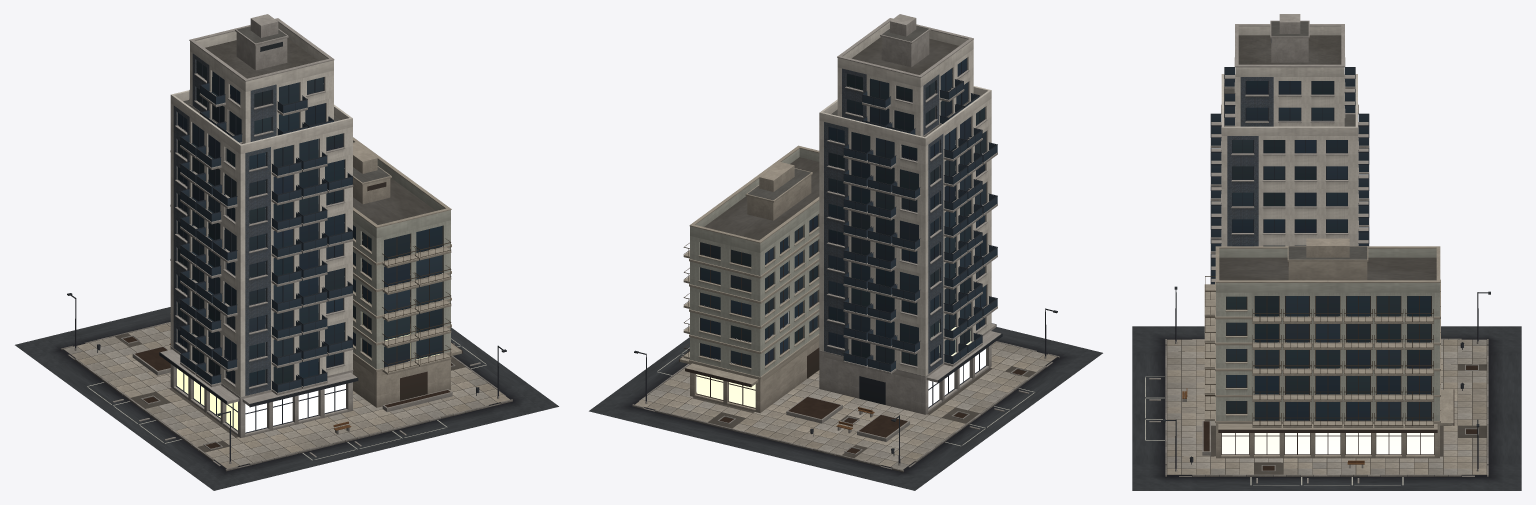
Rendered from modulo_B_lod0.glb.
The picture shows the model from 3 angles, left to right: view 1: azimuth 30°, elevation 25°; view 2: azimuth 150°, elevation 25°; view 3: azimuth 270°, elevation 25°; orthographic projection. The views are drawn at different scales.
Visible parts, largest first — view 1: modulo_B_lod0_tex, modulo_B_lod0_solid; view 2: modulo_B_lod0_tex, modulo_B_lod0_solid; view 3: modulo_B_lod0_tex, modulo_B_lod0_solid.
Part boxes in pixels (<box>): modulo_B_lod0_tex: <box>15,14,558,490</box>; modulo_B_lod0_solid: <box>67,42,506,461</box>; modulo_B_lod0_tex: <box>589,14,1102,490</box>; modulo_B_lod0_solid: <box>634,58,1057,463</box>; modulo_B_lod0_tex: <box>1132,14,1521,490</box>; modulo_B_lod0_solid: <box>1163,38,1490,468</box>.
Size of the model in its own units: 40 by 42.01 by 40.
Materials: 11 (7 with a texture image).
